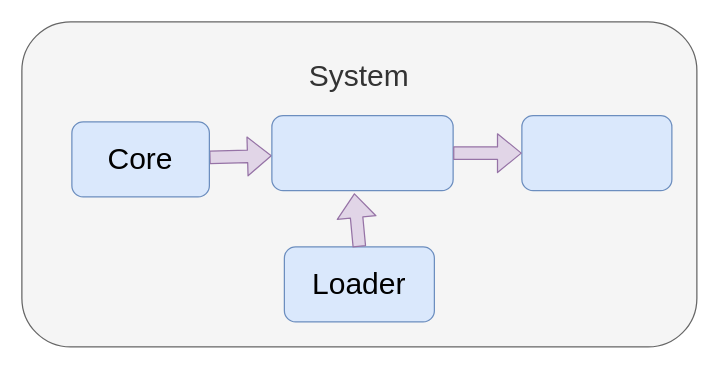
This 719x369 diagram has some shape labels left out. Each missing label, with the centre of its shape:
Interconnect: the point at 362,152
Memory: the point at 596,152
